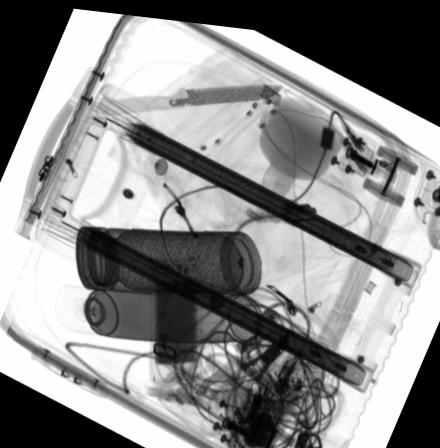Knife: (96, 78, 284, 116)
Powerbank: (148, 250, 198, 379)
Scissors: (203, 320, 289, 403)
Sprayer: (52, 282, 262, 340)
